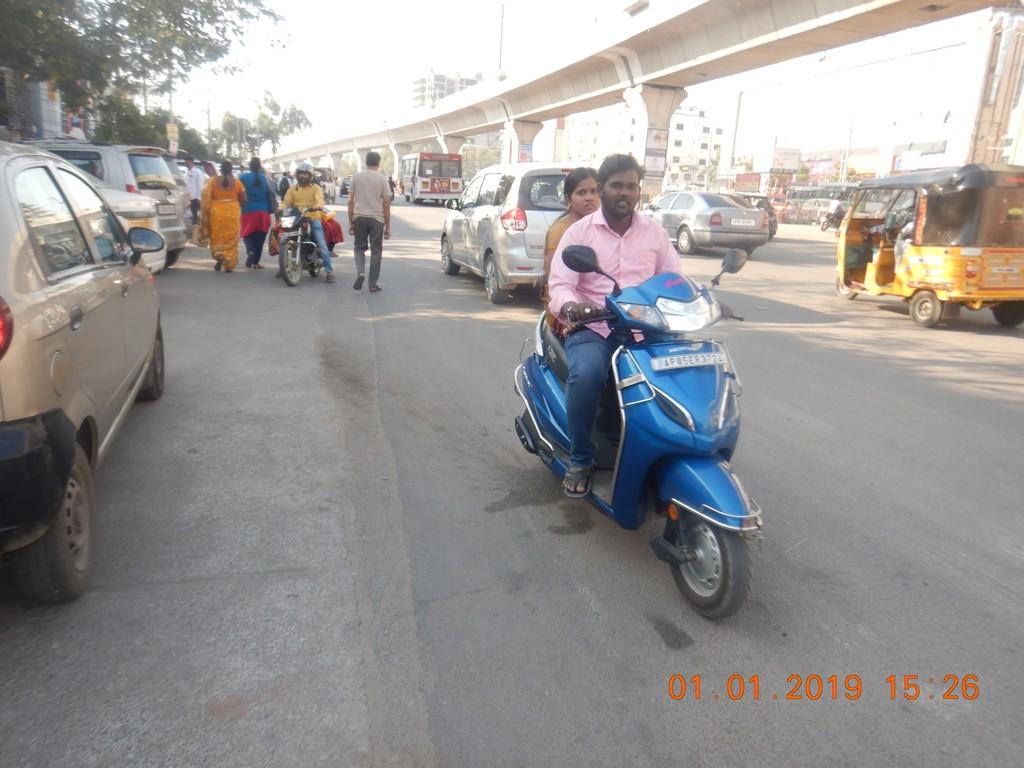plate: (656, 350, 726, 370)
